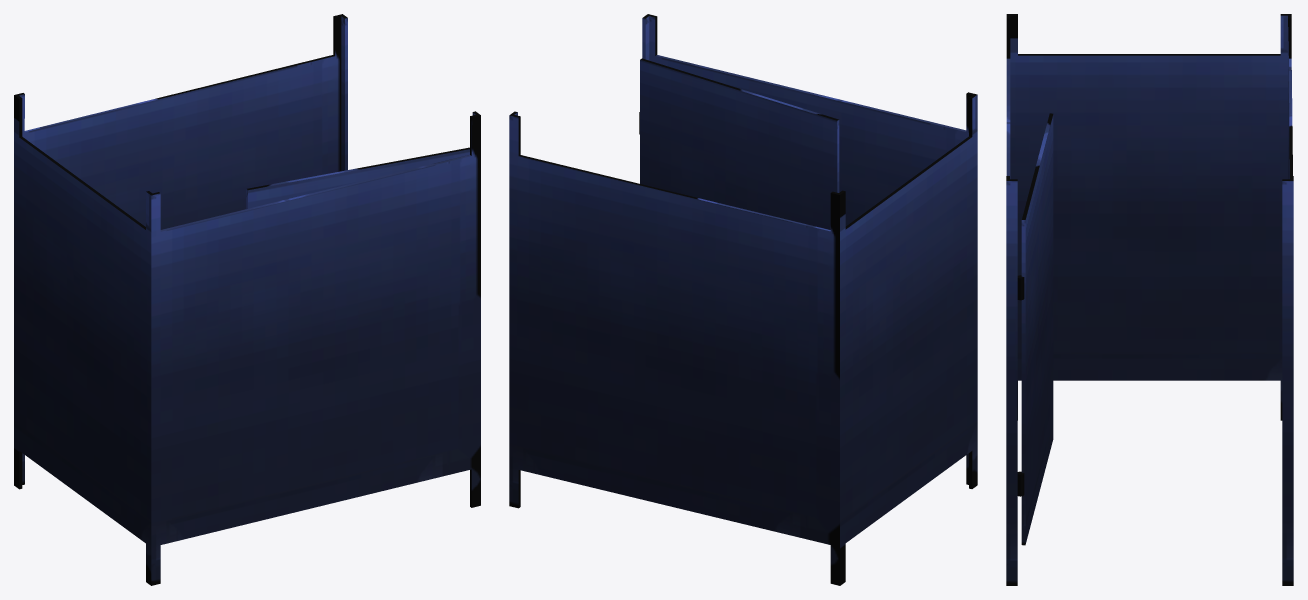
The model's file is stall_open.fbx.
3 renders of one model, left to right at view 1: azimuth 30°, elevation 25°; view 2: azimuth 150°, elevation 25°; view 3: azimuth 270°, elevation 25°, orthographic. The views are drawn at different scales.
Visible parts, largest first — view 1: stall_open; view 2: stall_open; view 3: stall_open.
Boxes of the visible parts, x1,y1,x2,y2 form: stall_open: (14, 14, 480, 585); stall_open: (509, 14, 977, 585); stall_open: (1006, 14, 1293, 585).
Bounding box in the file's own units: 2.13 × 2.4 × 1.54.
Materials: 1 (1 with a texture image).
